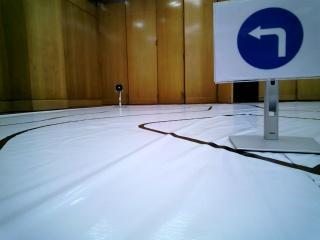left: (225, 3, 320, 73)
